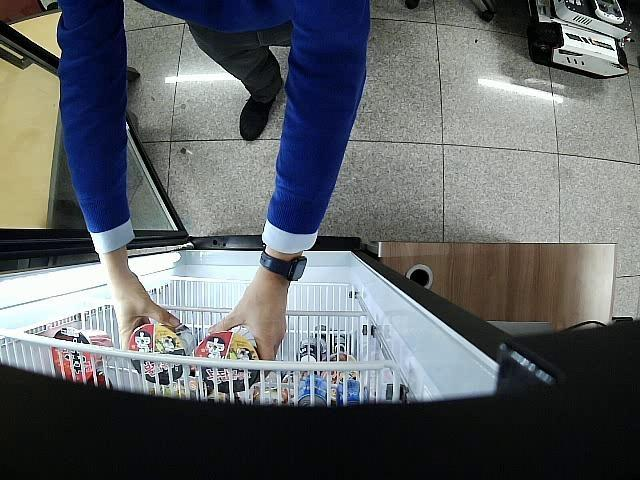08_buldak_S: (129, 323, 196, 386), (196, 332, 260, 393)
